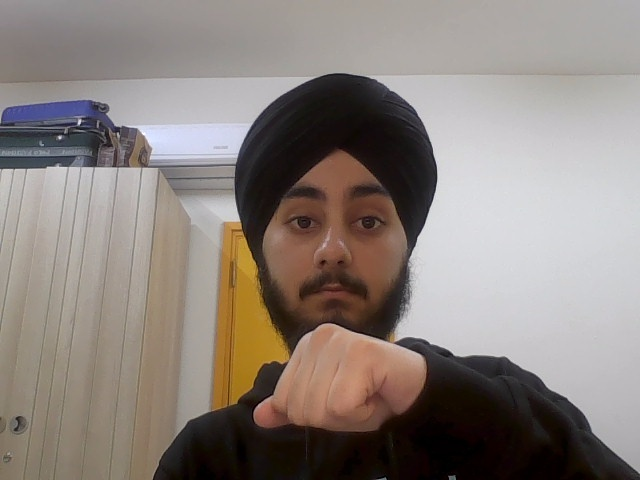Yes: (244, 319, 434, 447)
